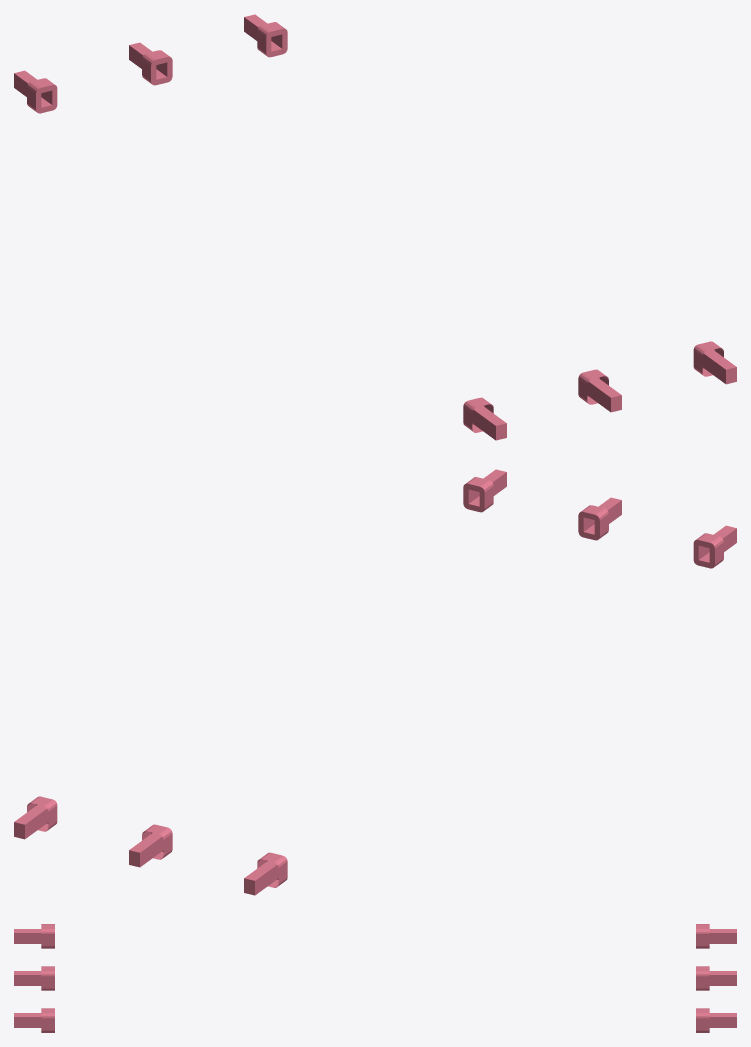
The model's file is New_Small_Trap_Lasers.fbx.
3 views of the same model, one above another, from view 1: azimuth 30°, elevation 25°; view 2: azimuth 150°, elevation 25°; view 3: azimuth 270°, elevation 25° (orthographic). The views are drawn at different scales.
Visible parts, largest first — view 1: Cube.007; view 2: Cube.007; view 3: Cube.007.
Part boxes in pixels (box(x1,y1,x2,y2)): Cube.007: box(14, 14, 736, 440); Cube.007: box(14, 469, 736, 895); Cube.007: box(14, 924, 736, 1032).
Bounding box in the file's own units: 293 × 28.5 × 973.
